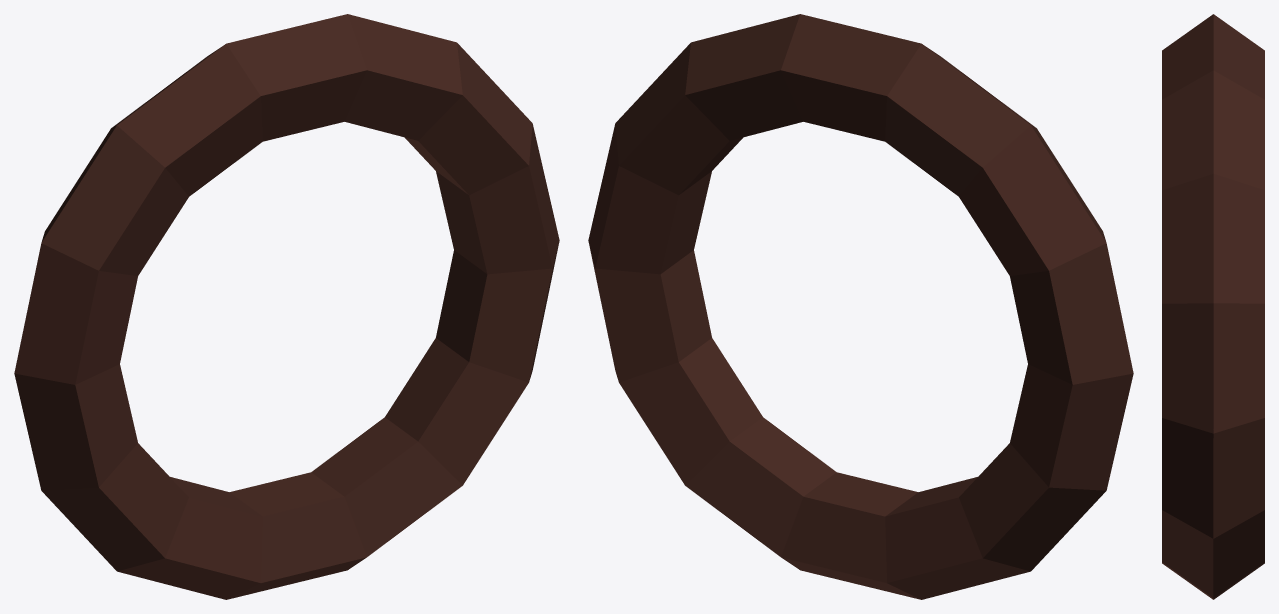
Rendered from Damage_ImpactMark.glb.
The picture shows the model from 3 angles, left to right: view 1: azimuth 30°, elevation 25°; view 2: azimuth 150°, elevation 25°; view 3: azimuth 270°, elevation 25°; orthographic projection. The views are drawn at different scales.
Parts seen in each view (by area): view 1: Damage_ImpactMark; view 2: Damage_ImpactMark; view 3: Damage_ImpactMark.
Boxes of the visible parts, bbox=[...] form: Damage_ImpactMark: bbox=[14, 14, 559, 599]; Damage_ImpactMark: bbox=[588, 14, 1133, 599]; Damage_ImpactMark: bbox=[1162, 14, 1264, 599].
Bounding box in the file's own units: 0.244 × 0.2379 × 0.0418.
